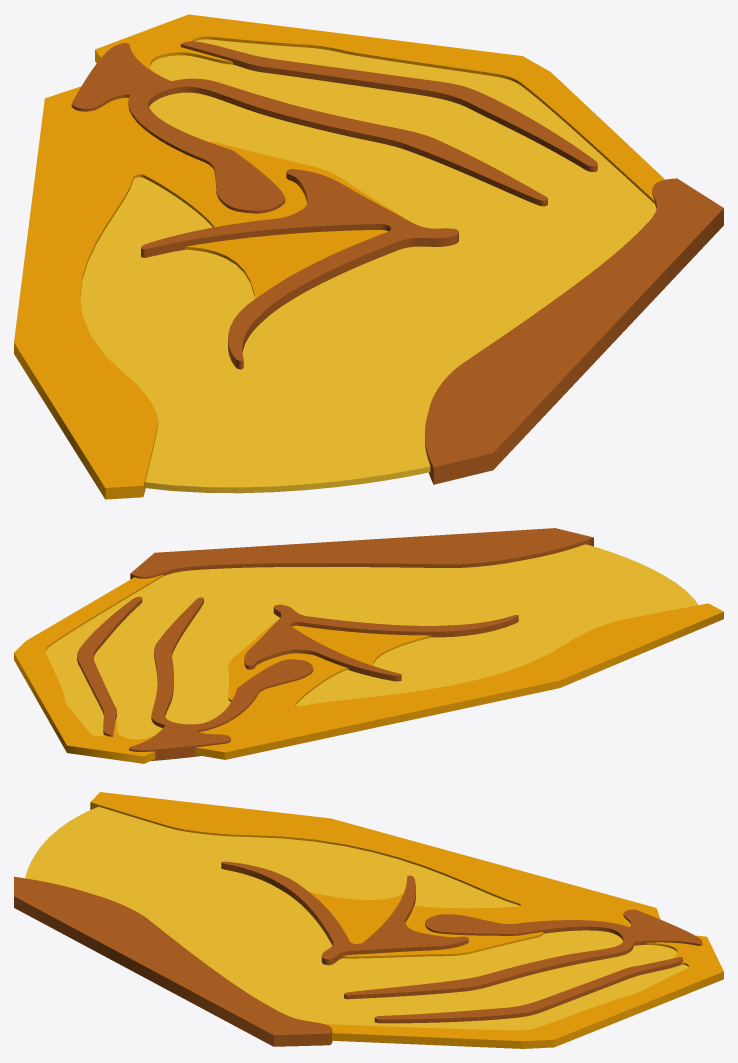
Rendered from emoji_u1f90c.glb.
3 views of the same model, one above another, from view 1: azimuth 30°, elevation 25°; view 2: azimuth 150°, elevation 25°; view 3: azimuth 270°, elevation 25° (orthographic). The views are drawn at different scales.
Visible parts, largest first — view 1: emoji_u1f90c; view 2: emoji_u1f90c; view 3: emoji_u1f90c.
Boxes of the visible parts, x1,y1,x2,y2 form: emoji_u1f90c: [14, 14, 723, 499]; emoji_u1f90c: [14, 528, 723, 763]; emoji_u1f90c: [14, 792, 723, 1048].
Size of the model in its own units: 0.0276 by 0.0008 by 0.0333.
